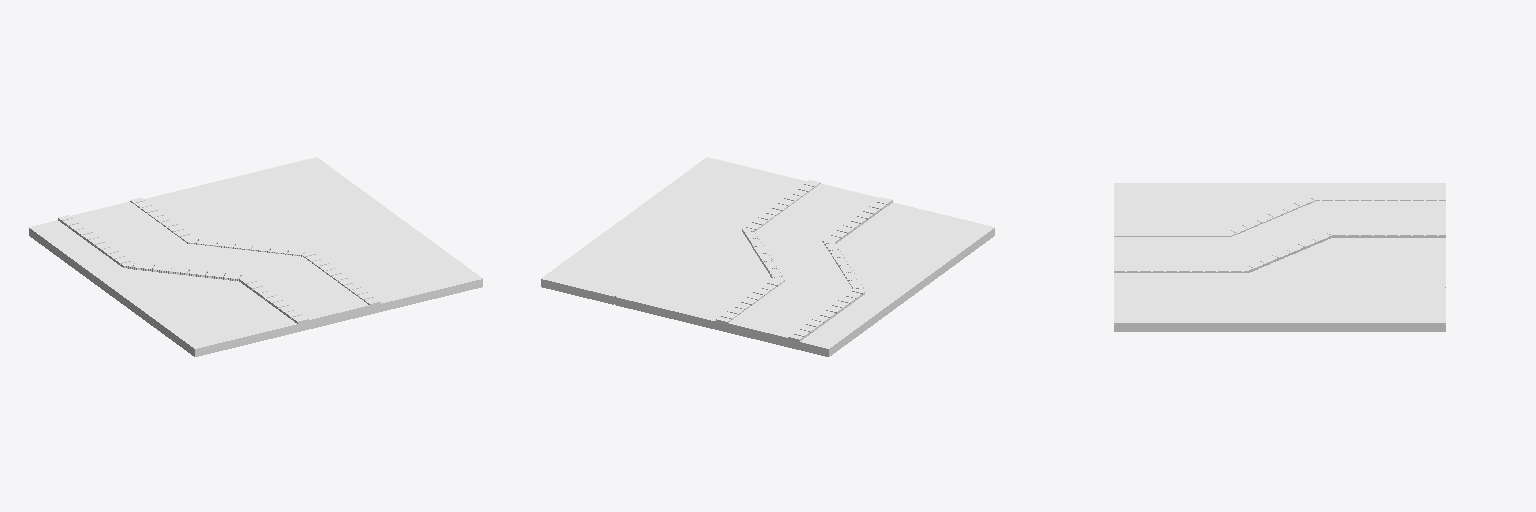
Rendered from roadLine2.obj.
The picture shows the model from 3 angles: view 1: azimuth 30°, elevation 25°; view 2: azimuth 150°, elevation 25°; view 3: azimuth 270°, elevation 25°; orthographic projection.
Parts seen in each view (by area): view 1: object 1; view 2: object 1; view 3: object 1.
Boxes of the visible parts, box(x1,y1,x2,y2) form: object 1: box(29, 157, 482, 356); object 1: box(541, 157, 994, 356); object 1: box(1114, 183, 1445, 331).
Size of the model in its own units: 25.6 by 0.9 by 25.6.